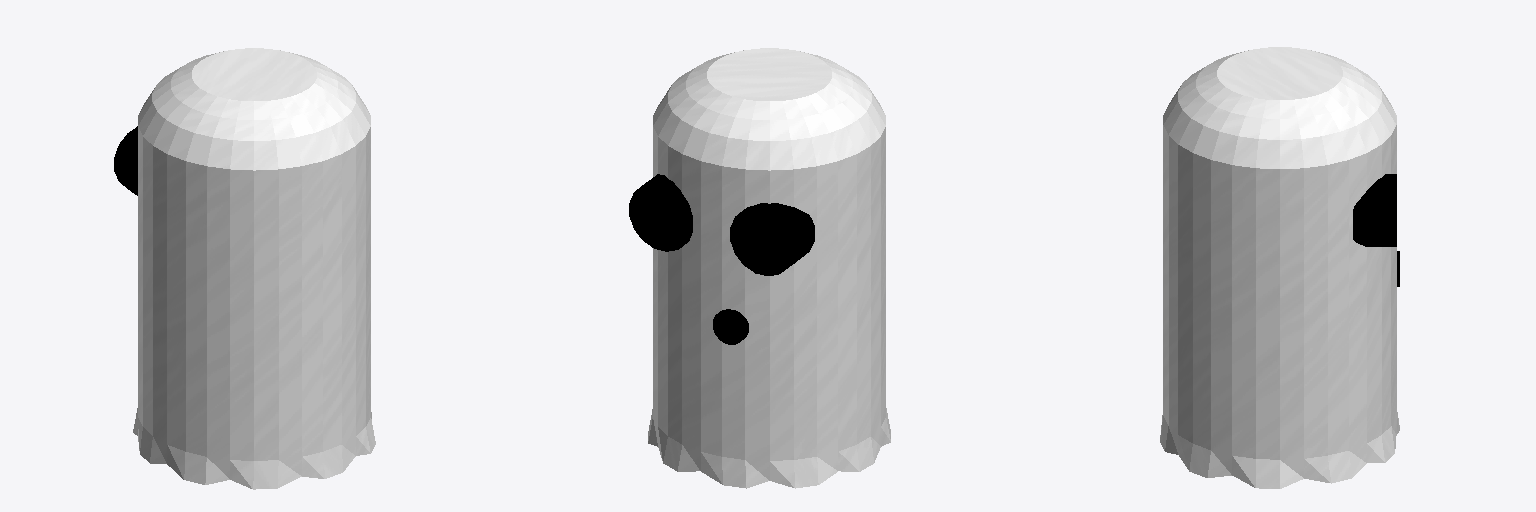
3 renders of one model, left to right at view 1: azimuth 30°, elevation 25°; view 2: azimuth 150°, elevation 25°; view 3: azimuth 270°, elevation 25°, orthographic.
Parts seen in each view (by area): view 1: body, Eyes; view 2: body, Eyes, Mouth; view 3: body, Eyes.
Boxes of the visible parts, <box> form: body: <box>133,48,375,489</box>; Eyes: <box>114,126,137,195</box>; body: <box>648,48,890,488</box>; Eyes: <box>629,174,814,275</box>; Mouth: <box>713,309,748,344</box>; body: <box>1160,47,1399,488</box>; Eyes: <box>1353,174,1396,246</box>.
Bounding box in the file's own units: 1.05 × 1.72 × 1.03.
Materials: 1 (1 with a texture image).